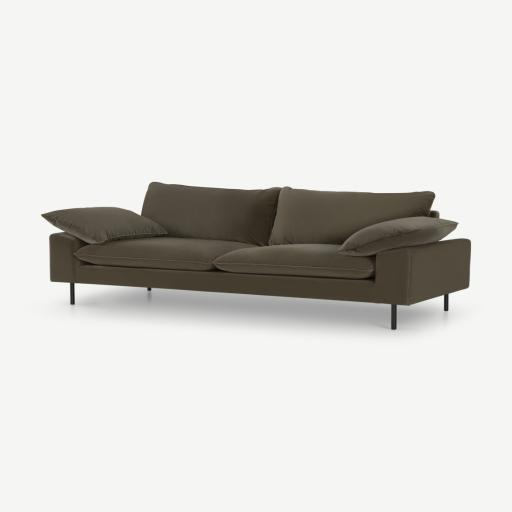back_cushion: (142, 183, 434, 246)
base: (76, 265, 374, 301)
left_arm: (374, 239, 470, 305)
legs: (391, 305, 397, 330), (70, 283, 74, 305), (445, 296, 447, 310)
right_arm: (50, 232, 88, 282)
seat_cushion: (76, 237, 375, 279)
two-seater: (0, 0, 511, 512)
